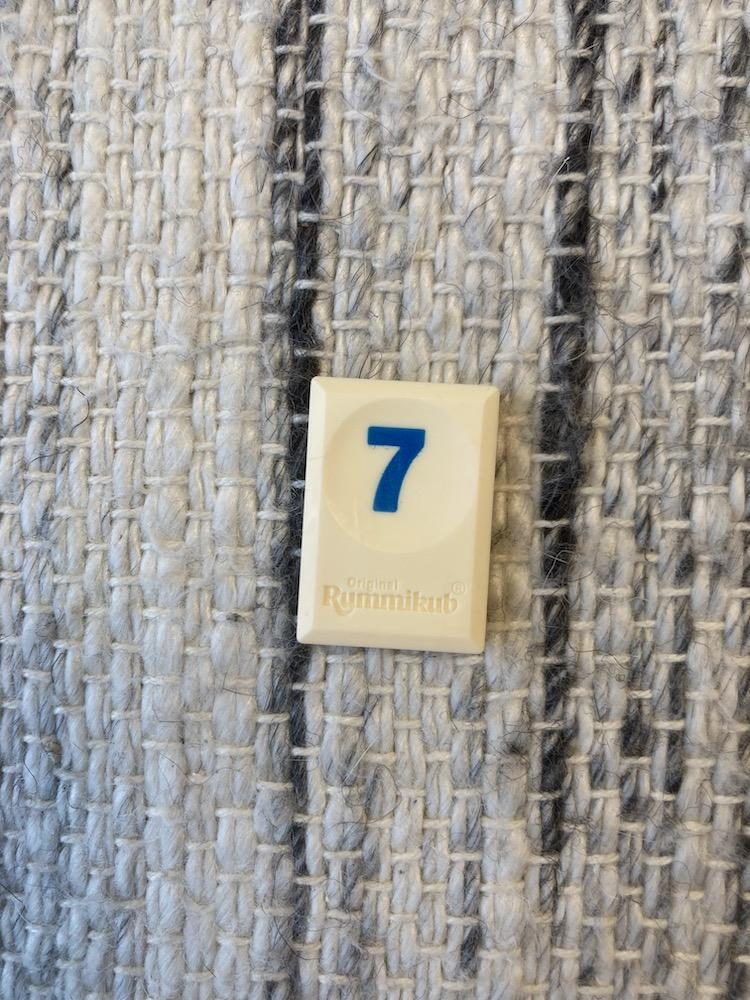blue_7: (297, 377, 498, 652)
